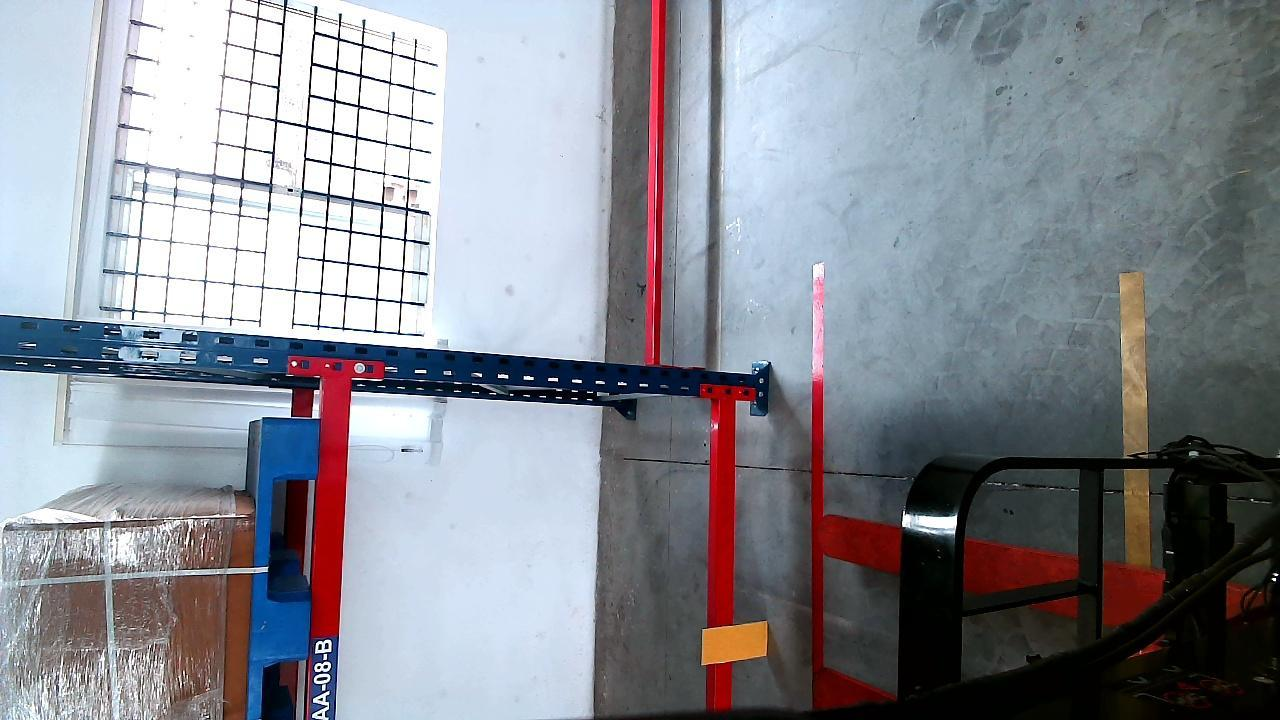red_line: (811, 264, 830, 714)
yellow_line: (1124, 258, 1148, 606)
